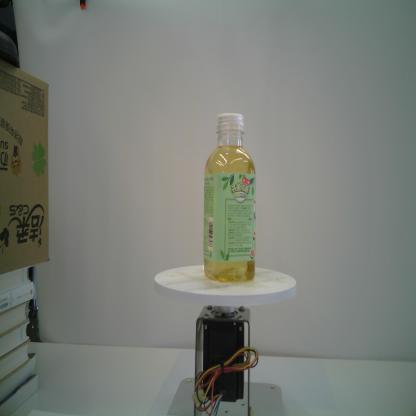Drink: (201, 110, 257, 286)
